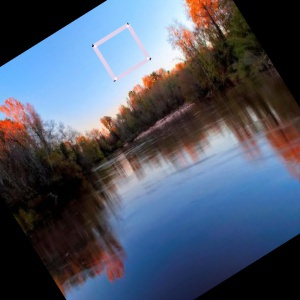square: (90, 21, 154, 83)
